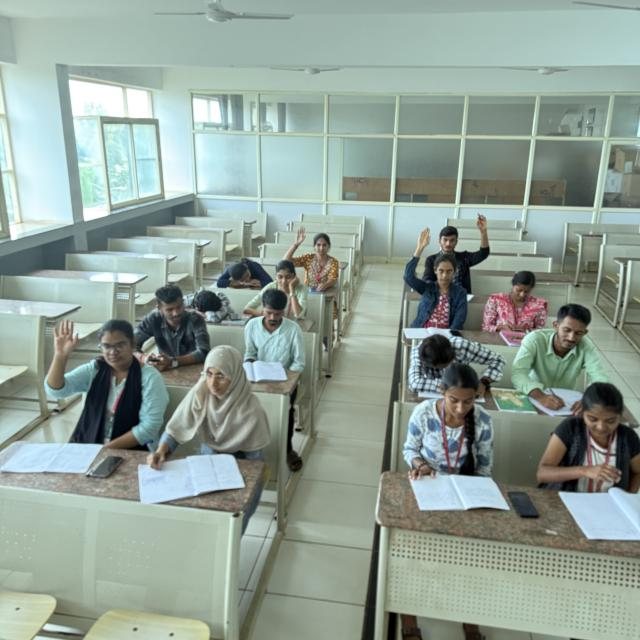Hand Rising: (40, 310, 166, 457), (403, 206, 498, 286), (400, 222, 470, 322), (283, 225, 346, 294)
Reading: (403, 361, 506, 498), (545, 387, 640, 527)
Sleeping: (211, 254, 279, 298), (178, 283, 240, 328)
Using Phone: (135, 284, 216, 374), (480, 268, 556, 342)
Writing: (144, 346, 264, 497), (517, 300, 616, 410)
